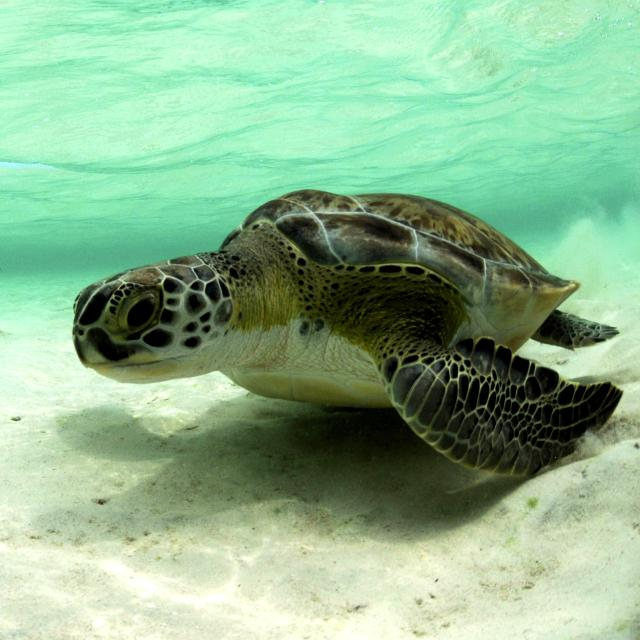Sea turtle: (60, 186, 628, 486)
